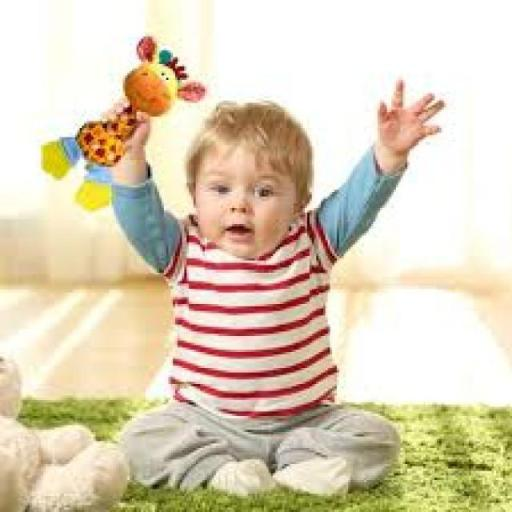baby: (112, 81, 443, 495)
